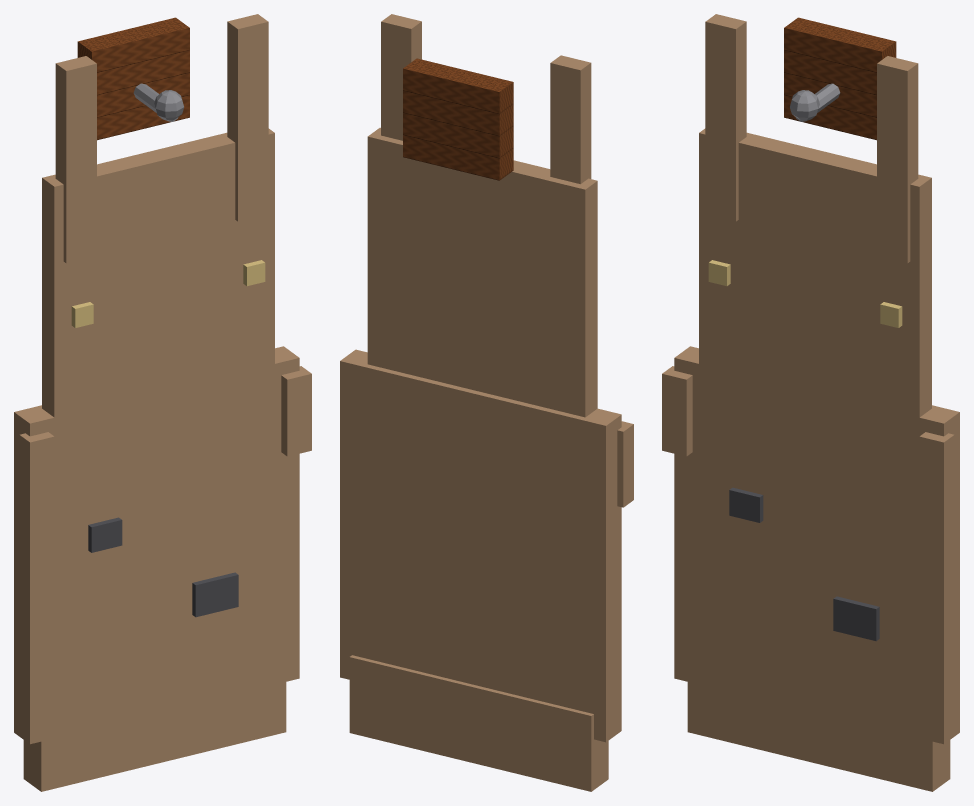
Rendered from blacksmith-forge-and-armoury-blacksmith-forge-and-armo-3ea552dc__37584.glb.
The picture shows the model from 3 angles, left to right: view 1: azimuth 30°, elevation 25°; view 2: azimuth 150°, elevation 25°; view 3: azimuth 330°, elevation 25°; orthographic projection.
Parts seen in each view (by area): view 1: blacksmith-forge-and-armoury-leather-apron-on-hook; view 2: blacksmith-forge-and-armoury-leather-apron-on-hook; view 3: blacksmith-forge-and-armoury-leather-apron-on-hook.
Boxes of the visible parts, bbox=[...] form: blacksmith-forge-and-armoury-leather-apron-on-hook: bbox=[14, 14, 311, 791]; blacksmith-forge-and-armoury-leather-apron-on-hook: bbox=[340, 14, 633, 791]; blacksmith-forge-and-armoury-leather-apron-on-hook: bbox=[662, 14, 959, 791].
Size of the model in its own units: 0.46 by 1.12 by 0.142.
5 materials, 1 textured.
